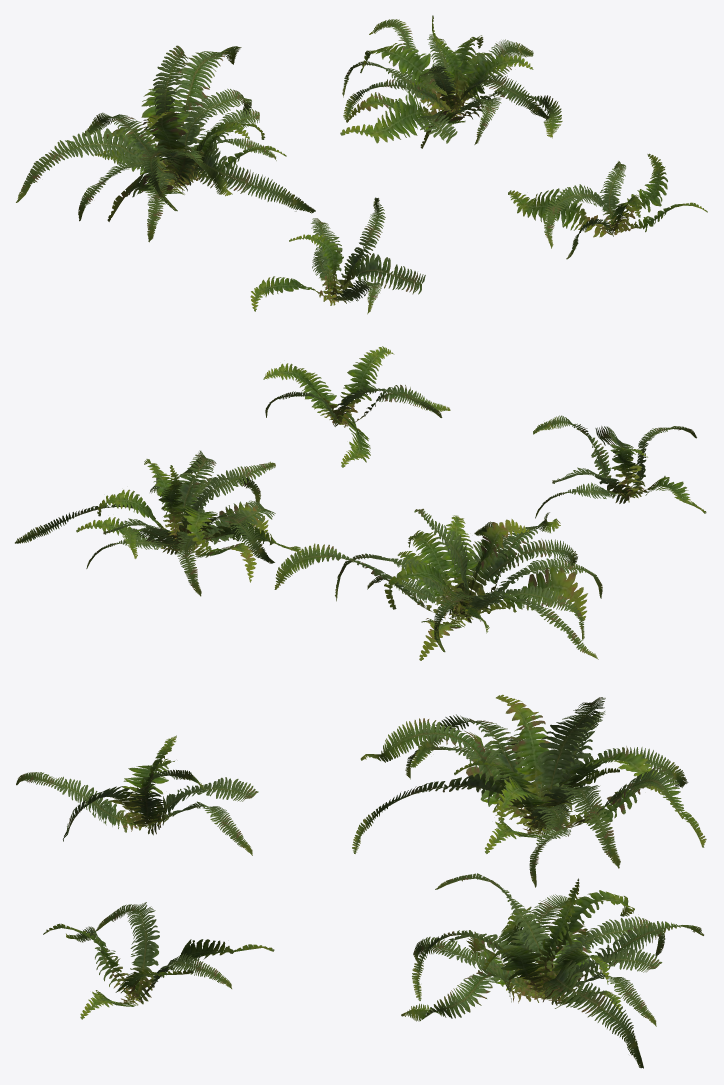
Rendered from fern.glb.
The picture shows the model from 3 angles, top to bottom: view 1: azimuth 30°, elevation 25°; view 2: azimuth 150°, elevation 25°; view 3: azimuth 270°, elevation 25°; orthographic projection. The views are drawn at different scales.
Visible parts, largest first — view 1: fern_02_b, fern_02_c, fern_02_a, fern_02_d; view 2: fern_02_b, fern_02_c, fern_02_d, fern_02_a; view 3: fern_02_b, fern_02_c, fern_02_a, fern_02_d.
Part boxes in pixels (x1,y1,x2,y2): fern_02_b: [16, 45, 315, 242]; fern_02_c: [340, 15, 562, 148]; fern_02_a: [250, 197, 425, 314]; fern_02_d: [508, 153, 707, 259]; fern_02_b: [274, 508, 602, 660]; fern_02_c: [15, 450, 301, 596]; fern_02_d: [263, 346, 450, 467]; fern_02_a: [533, 415, 706, 518]; fern_02_b: [352, 694, 706, 887]; fern_02_c: [401, 873, 703, 1068]; fern_02_a: [16, 735, 258, 855]; fern_02_d: [43, 902, 274, 1019].
Size of the model in its own units: 1.97 by 0.4277 by 1.72.
Materials: 1 (1 with a texture image).
